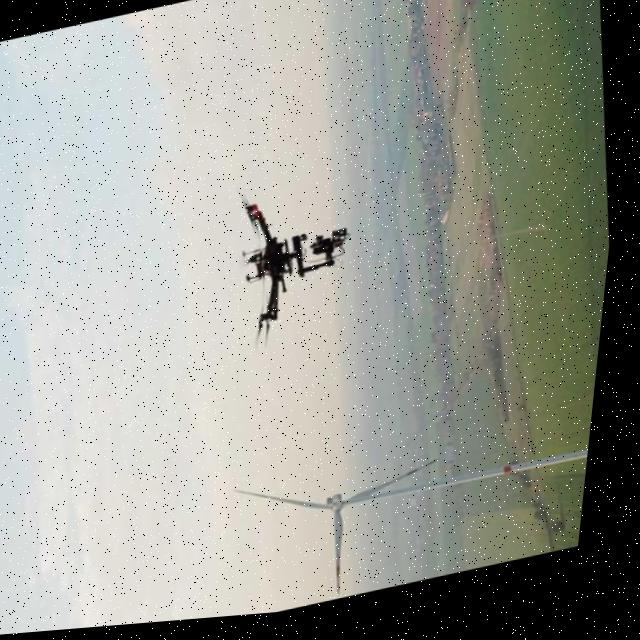drones: (215, 174, 373, 352)
